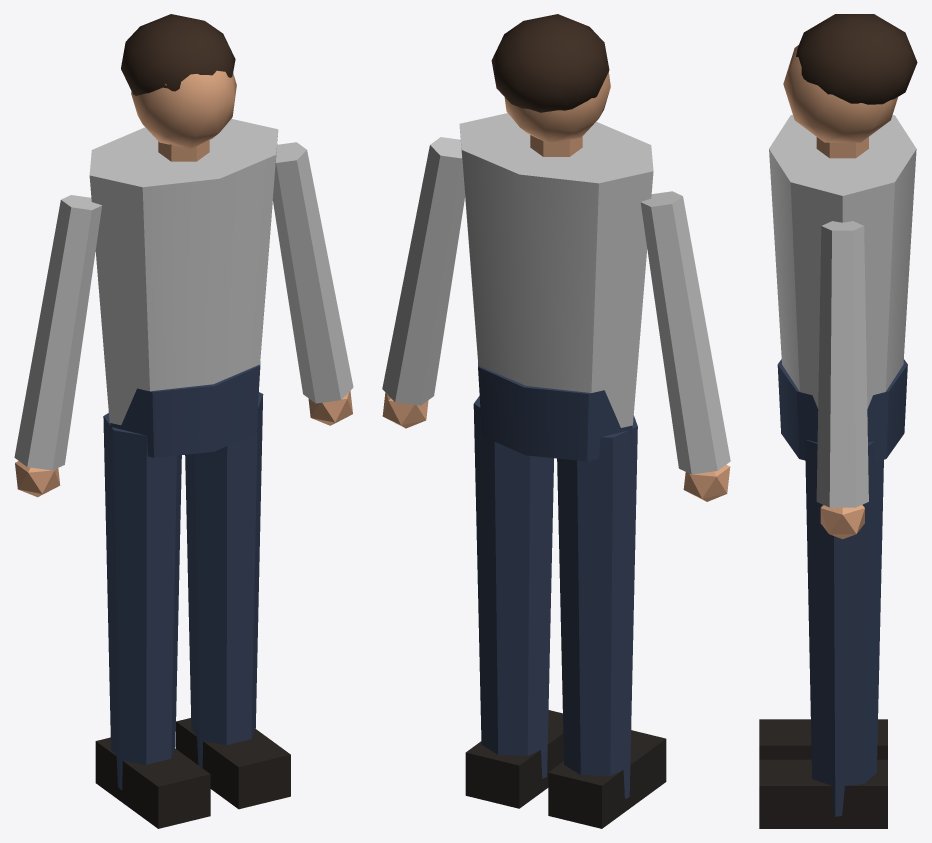
File: person_a.fbx
3 renders of one model, left to right at view 1: azimuth 30°, elevation 25°; view 2: azimuth 150°, elevation 25°; view 3: azimuth 270°, elevation 25°, orthographic. The views are drawn at different scales.
Parts seen in each view (by area): view 1: person_a; view 2: person_a; view 3: person_a.
Part boxes in pixels (x1=…): person_a: x1=14, y1=14, x2=353, y2=828; person_a: x1=382, y1=14, x2=730, y2=828; person_a: x1=759, y1=14, x2=917, y2=828.
Size of the model in its own units: 0.8272 by 1.8 by 0.332.
